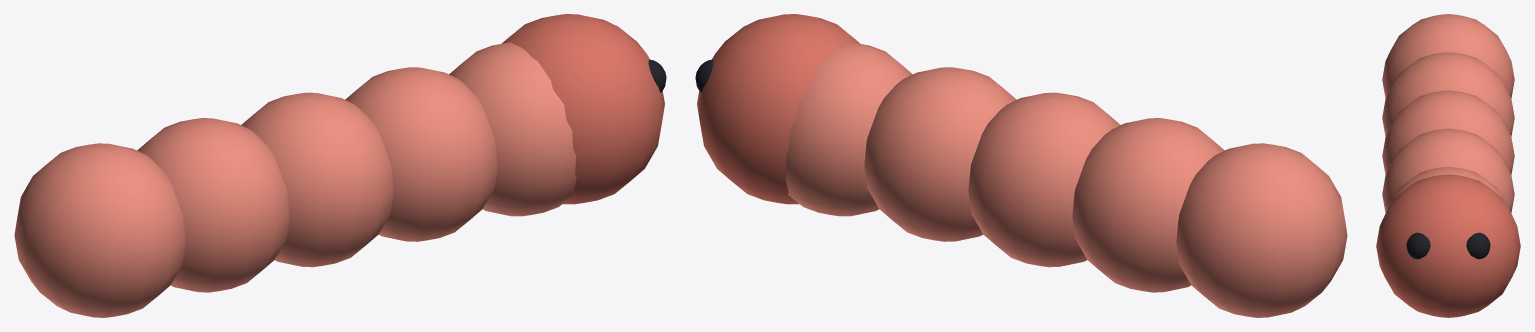
File: worm.glb
3 views of the same model, side by side, from view 1: azimuth 30°, elevation 25°; view 2: azimuth 150°, elevation 25°; view 3: azimuth 270°, elevation 25° (orthographic). The views are drawn at different scales.
Parts seen in each view (by area): view 1: Sphere, Sphere.005; view 2: Sphere, Sphere.005; view 3: Sphere, Sphere.005, Sphere.006.
Boxes of the visible parts, x1,y1,x2,y2 form: Sphere: (14, 42, 576, 317); Sphere.005: (502, 14, 664, 204); Sphere: (785, 42, 1347, 317); Sphere.005: (697, 14, 859, 204); Sphere: (1382, 14, 1514, 212); Sphere.005: (1376, 174, 1520, 317); Sphere.006: (1406, 232, 1490, 259).
Size of the model in its own units: 1.81 by 0.48 by 0.48.
